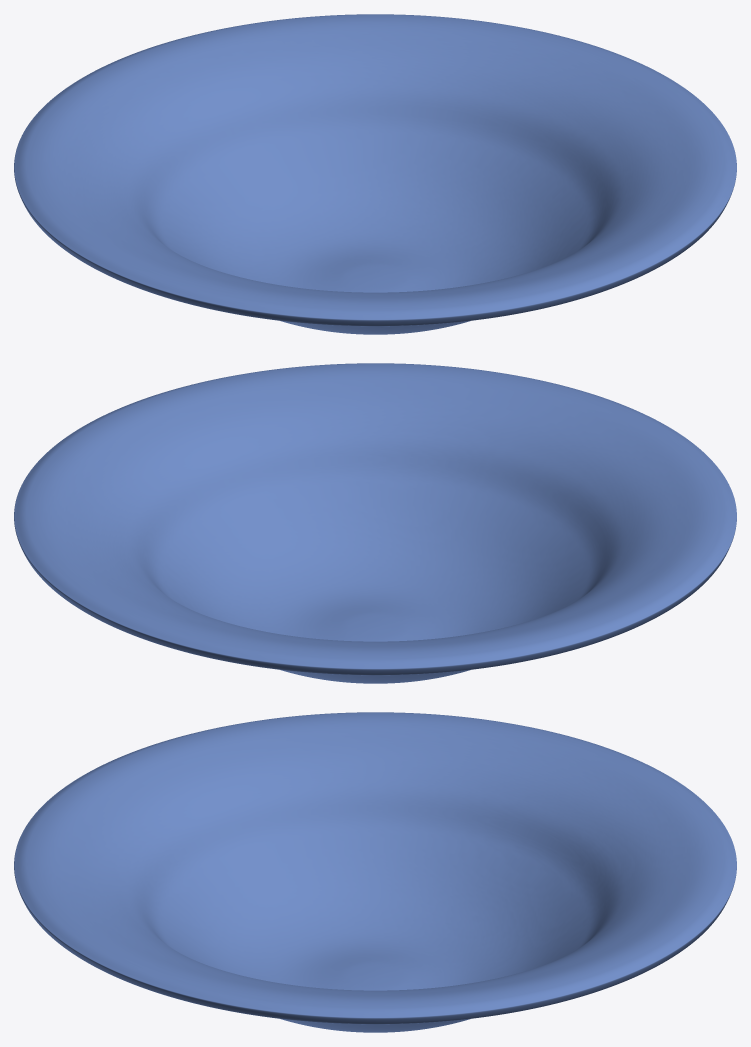
The picture shows the model from 3 angles, top to bottom: view 1: azimuth 30°, elevation 25°; view 2: azimuth 150°, elevation 25°; view 3: azimuth 270°, elevation 25°; orthographic projection.
Bounding box in the file's own units: 0.3006 × 0.0583 × 0.3006.
